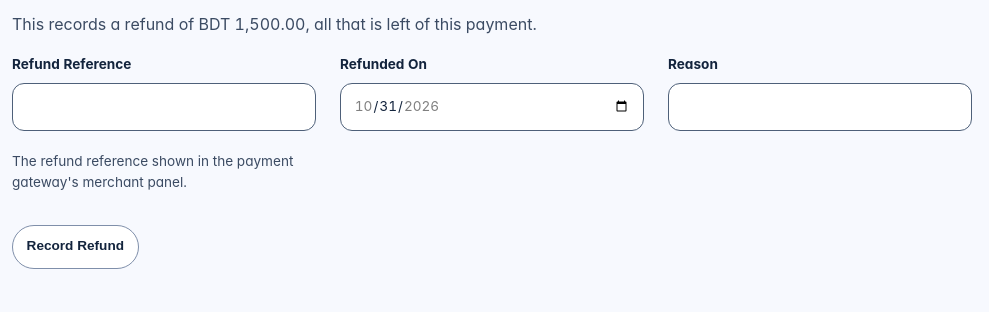
Scenario: the Record Refund form of Traveller Billing (ADR 0025 T6b) › keeps a refusal with the form and points at the field at fault
Click the submit button: (75, 247) [12, 225, 139, 269]
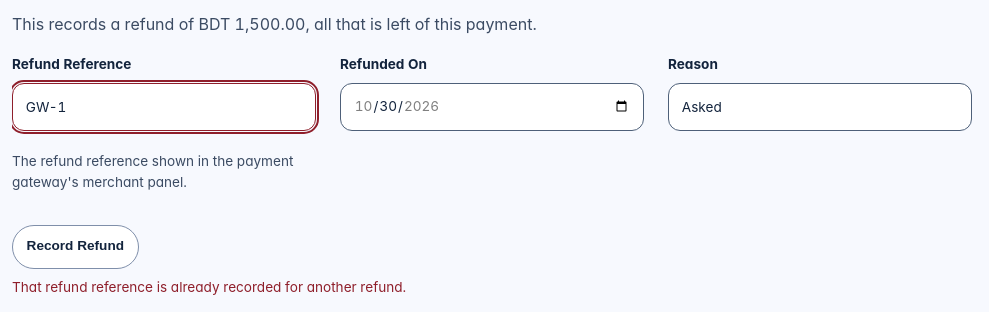
Now the field named "reference" holds "GW-1", box [12, 83, 316, 131]
Now the date field named "refundedOn" holds "2026-10-30", box [340, 83, 644, 131]
Now the message "That refund reference is already recorded for another refund." is shown, box [12, 279, 406, 295]
